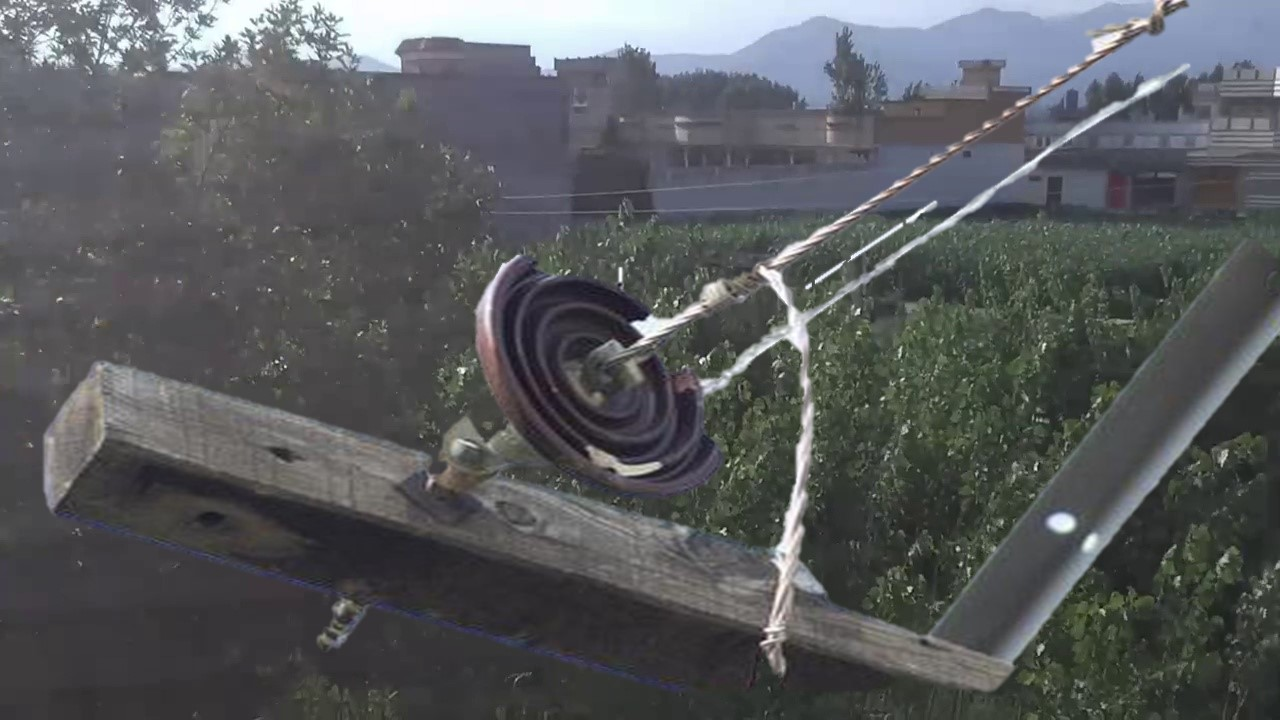defect_disc: (467, 238, 732, 508)
